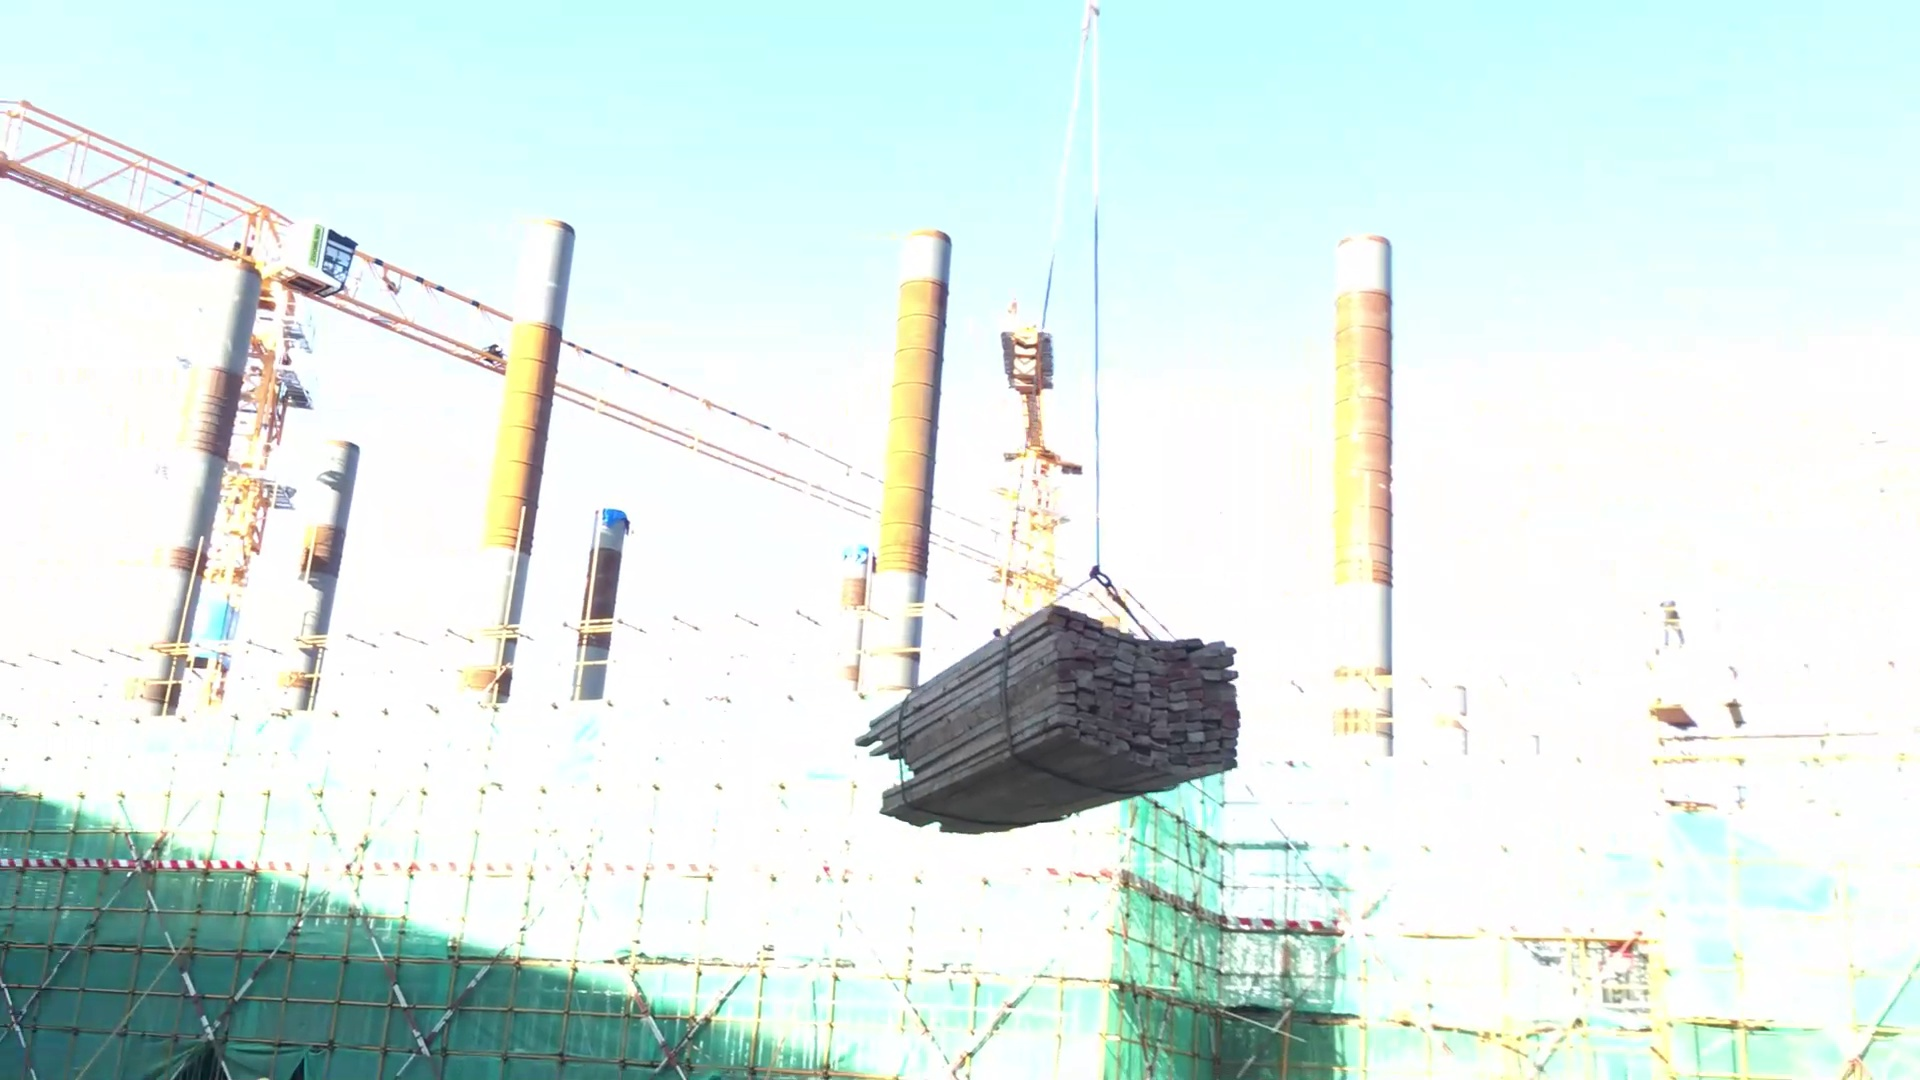wood: (856, 600, 1247, 837)
